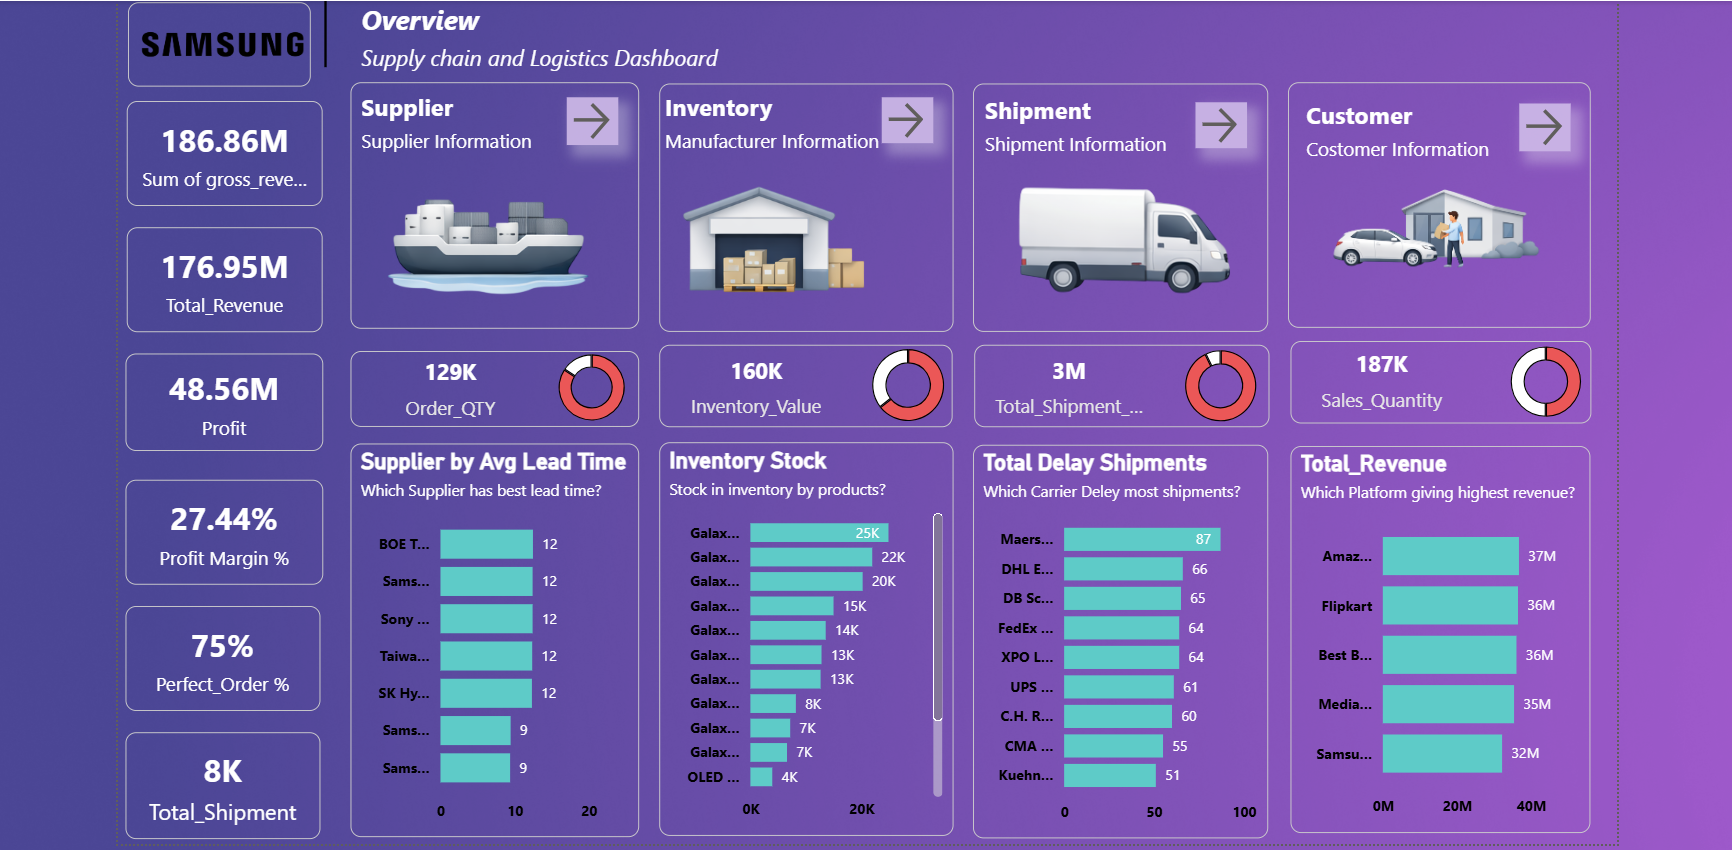

The dashboard page shown, as its layout file describes it:
{"tool":"powerbi","page":{"name":"Overview","canvas":[1280,720],"ordinal":1},"visuals":[{"type":"shape","box":[198.8,69.8,246.5,210.5],"z":0},{"type":"shape","box":[998.8,69.8,258.1,209.3],"z":1000},{"type":"shape","box":[730.2,70.9,252.3,211.6],"z":2000},{"type":"shape","box":[461.6,70.9,251.2,211.6],"z":3000},{"type":"image","box":[211.5,129.8,201.2,138.9],"z":4000},{"type":"image","box":[1029.1,115.5,199.9,153.1],"z":5000},{"type":"image","box":[752.7,123.3,207.6,145.4],"z":6000},{"type":"image","box":[469.8,125.9,189.5,142.8],"z":7000},{"type":"actionButton","box":[382.6,82.6,44.2,40.7],"z":8000},{"type":"actionButton","box":[652.3,82.6,44.2,39.5],"z":9000},{"type":"actionButton","box":[919.8,86,44.2,39.5],"z":10000},{"type":"actionButton","box":[1196.5,87.2,44.2,40.7],"z":11000},{"type":"textbox","title":"Supplier","box":[202.3,76.7,210.5,140.7],"z":12000},{"type":"textbox","title":"Customer","box":[1009.3,83.7,187.2,80.2],"z":13000},{"type":"textbox","title":"Shipment","box":[734.9,79.1,181.4,97.7],"z":14000},{"type":"textbox","title":"Inventory","box":[461.6,76.7,193,80.2],"z":15000},{"type":"textbox","title":"Overview","box":[202.3,0,457,64],"z":16000},{"type":"shape","box":[155.6,0,42.7,56.5],"z":17000},{"type":"image","box":[8.3,1.4,155.6,71.6],"z":18000},{"type":"card","fields":{"Values":["MeasuresTable.Total_Revenue"]},"box":[7.8,193.4,167.4,89.5],"z":19000},{"type":"card","fields":{"Values":["MeasuresTable.Profit"]},"box":[6.5,301.1,168.7,83.1],"z":20000},{"type":"card","fields":{"Values":["MeasuresTable.Profit Margin %"]},"box":[6.5,408.8,168.7,89.5],"z":21000},{"type":"card","fields":{"Values":["MeasuresTable.Perfect_Order %"]},"box":[6.5,516.5,166.1,89.5],"z":22000},{"type":"card","fields":{"Values":["MeasuresTable.Total_Shipment"]},"box":[6.5,624.2,166.1,90.8],"z":23000},{"type":"card","fields":{"Values":["Sum(fact_sales.gross_revenue)"]},"box":[7.8,85.7,167.4,89.5],"z":24000},{"type":"shape","box":[198.6,298.5,246.6,64.9],"z":25000},{"type":"shape","box":[1000.6,290.7,257,70.1],"z":26000},{"type":"shape","box":[730.6,293.3,251.8,70.1],"z":27000},{"type":"shape","box":[462,293.3,250.5,70.1],"z":28000},{"type":"card","fields":{"Values":["MeasuresTable.Order_QTY"]},"box":[214.1,295.9,138.9,67.5],"z":29000},{"type":"card","fields":{"Values":["MeasuresTable.Inventory_Value"]},"box":[475,295.9,140.2,64.9],"z":30000},{"type":"card","fields":{"Values":["MeasuresTable.Total_Shipment_Quantity"]},"box":[742.3,295.9,138.9,64.9],"z":31000},{"type":"card","fields":{"Values":["MeasuresTable.Total_Sales_Quantity"]},"box":[1009.7,290.7,138.9,64.9],"z":32000},{"type":"clusteredBarChart","title":"Supplier by Avg Lead Time","fields":{"Category":["dim_supplier.supplier_name"],"Y":["MeasuresTable.Avg_Lead_Time"]},"box":[198.8,377.9,246.5,336],"z":33000},{"type":"clusteredBarChart","title":"Inventory Stock","fields":{"Category":["dim_product.product_name"],"Y":["MeasuresTable.Inventory_Value"]},"box":[461.6,376.7,251.2,336],"z":34000},{"type":"clusteredBarChart","title":"Total Delay Shipments","fields":{"Category":["fact_shipment.carrier"],"Y":["MeasuresTable.Total_Delay"]},"box":[730.2,379.1,252.3,336],"z":35000},{"type":"clusteredBarChart","title":"Total_Revenue ","fields":{"Category":["dim_customer.customer_name"],"Y":["MeasuresTable.Total_Revenue"]},"box":[1001.2,380.2,255.8,330.2],"z":36000},{"type":"donutChart","fields":{"Y":["MeasuresTable.Inventory_Value","MeasuresTable.Safety_Stock"]},"box":[619,277.7,111.6,101.2],"z":37000},{"type":"donutChart","fields":{"Y":["MeasuresTable.Total_Shipment","MeasuresTable.Total_Delay"]},"box":[882.5,280.3,118.1,96],"z":38000},{"type":"donutChart","fields":{"Y":["MeasuresTable.Total_Sales_Quantity","MeasuresTable.Total_QTY_Delay"]},"box":[1160.5,277.9,116.3,95.3],"z":39000},{"type":"donutChart","fields":{"Y":["MeasuresTable.Order_QTY","MeasuresTable.Defect_Rate"]},"box":[346.5,285.5,115.5,88.2],"z":40000}]}

Visuals, with their boxes on the page's 1280x720 design canvas (x1, y1, x2, y2). These are canvas units, not pixel positions in the 1732x850 screenshot, which may show the page scaled, cropped or inside an application window:
shape: {"left": 199, "top": 70, "right": 445, "bottom": 280}
shape: {"left": 999, "top": 70, "right": 1257, "bottom": 279}
shape: {"left": 730, "top": 71, "right": 982, "bottom": 282}
shape: {"left": 462, "top": 71, "right": 713, "bottom": 282}
image: {"left": 212, "top": 130, "right": 413, "bottom": 269}
image: {"left": 1029, "top": 116, "right": 1229, "bottom": 269}
image: {"left": 753, "top": 123, "right": 960, "bottom": 269}
image: {"left": 470, "top": 126, "right": 659, "bottom": 269}
actionButton: {"left": 383, "top": 83, "right": 427, "bottom": 123}
actionButton: {"left": 652, "top": 83, "right": 696, "bottom": 122}
actionButton: {"left": 920, "top": 86, "right": 964, "bottom": 126}
actionButton: {"left": 1196, "top": 87, "right": 1241, "bottom": 128}
"Supplier" textbox: {"left": 202, "top": 77, "right": 413, "bottom": 217}
"Customer" textbox: {"left": 1009, "top": 84, "right": 1196, "bottom": 164}
"Shipment" textbox: {"left": 735, "top": 79, "right": 916, "bottom": 177}
"Inventory" textbox: {"left": 462, "top": 77, "right": 655, "bottom": 157}
"Overview" textbox: {"left": 202, "top": 0, "right": 659, "bottom": 64}
shape: {"left": 156, "top": 0, "right": 198, "bottom": 56}
image: {"left": 8, "top": 1, "right": 164, "bottom": 73}
card - MeasuresTable.Total_Revenue: {"left": 8, "top": 193, "right": 175, "bottom": 283}
card - MeasuresTable.Profit: {"left": 6, "top": 301, "right": 175, "bottom": 384}
card - MeasuresTable.Profit Margin %: {"left": 6, "top": 409, "right": 175, "bottom": 498}
card - MeasuresTable.Perfect_Order %: {"left": 6, "top": 516, "right": 173, "bottom": 606}
card - MeasuresTable.Total_Shipment: {"left": 6, "top": 624, "right": 173, "bottom": 715}
card - Sum(fact_sales.gross_revenue): {"left": 8, "top": 86, "right": 175, "bottom": 175}
shape: {"left": 199, "top": 298, "right": 445, "bottom": 363}
shape: {"left": 1001, "top": 291, "right": 1258, "bottom": 361}
shape: {"left": 731, "top": 293, "right": 982, "bottom": 363}
shape: {"left": 462, "top": 293, "right": 712, "bottom": 363}
card - MeasuresTable.Order_QTY: {"left": 214, "top": 296, "right": 353, "bottom": 363}
card - MeasuresTable.Inventory_Value: {"left": 475, "top": 296, "right": 615, "bottom": 361}
card - MeasuresTable.Total_Shipment_Quantity: {"left": 742, "top": 296, "right": 881, "bottom": 361}
card - MeasuresTable.Total_Sales_Quantity: {"left": 1010, "top": 291, "right": 1149, "bottom": 356}
"Supplier by Avg Lead Time" clusteredBarChart: {"left": 199, "top": 378, "right": 445, "bottom": 714}
"Inventory Stock" clusteredBarChart: {"left": 462, "top": 377, "right": 713, "bottom": 713}
"Total Delay Shipments" clusteredBarChart: {"left": 730, "top": 379, "right": 982, "bottom": 715}
"Total_Revenue " clusteredBarChart: {"left": 1001, "top": 380, "right": 1257, "bottom": 710}
donutChart - MeasuresTable.Inventory_Value x MeasuresTable.Safety_Stock: {"left": 619, "top": 278, "right": 731, "bottom": 379}
donutChart - MeasuresTable.Total_Shipment x MeasuresTable.Total_Delay: {"left": 882, "top": 280, "right": 1001, "bottom": 376}
donutChart - MeasuresTable.Total_Sales_Quantity x MeasuresTable.Total_QTY_Delay: {"left": 1160, "top": 278, "right": 1277, "bottom": 373}
donutChart - MeasuresTable.Order_QTY x MeasuresTable.Defect_Rate: {"left": 346, "top": 286, "right": 462, "bottom": 374}
